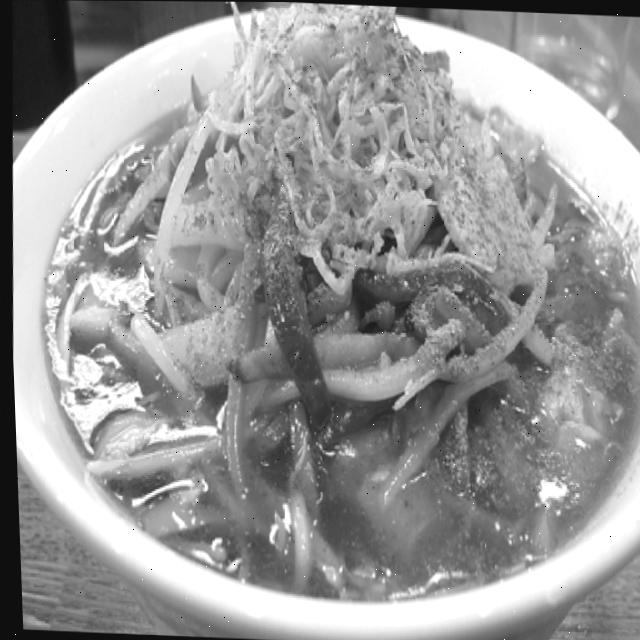面条主食: (2, 0, 640, 623)
